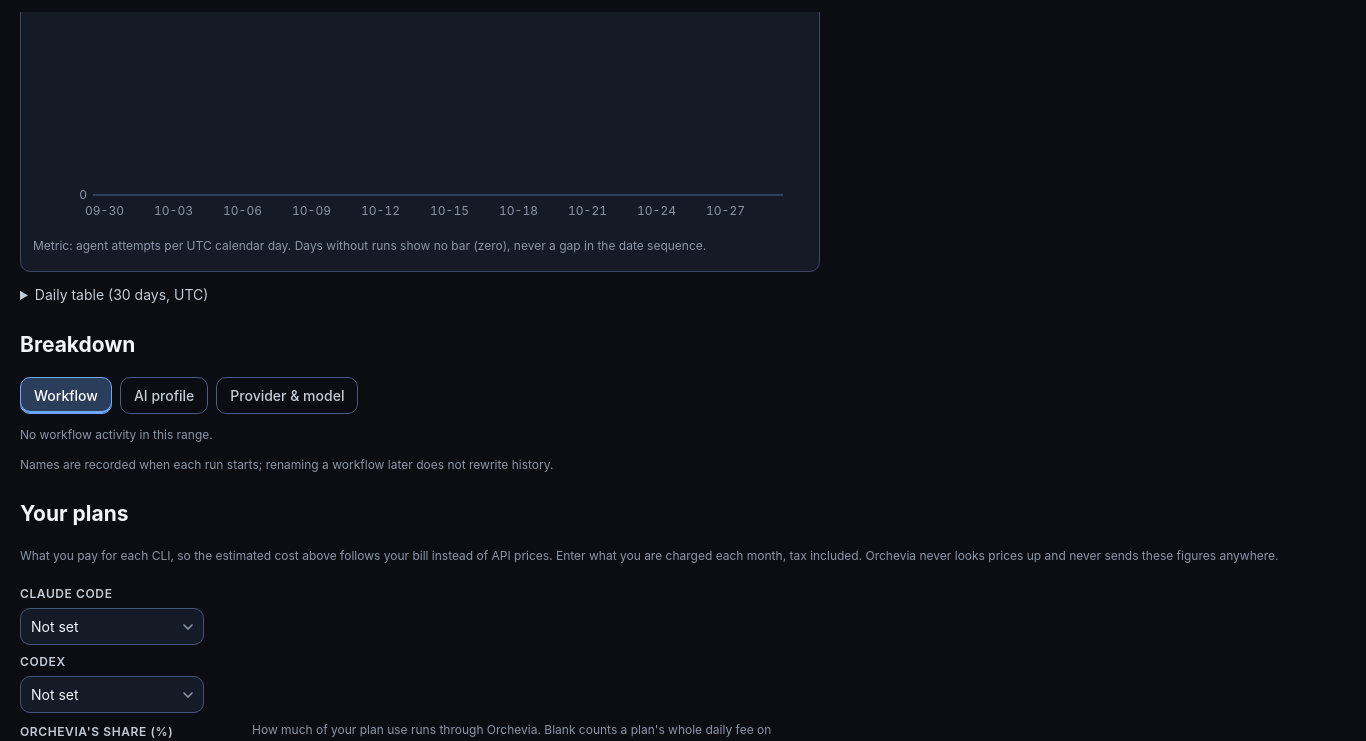
shows profile usage with current names, saved IDs and explicit unknown USD coverage
Click the tab "AI profile": (164, 396) [120,378,208,414]
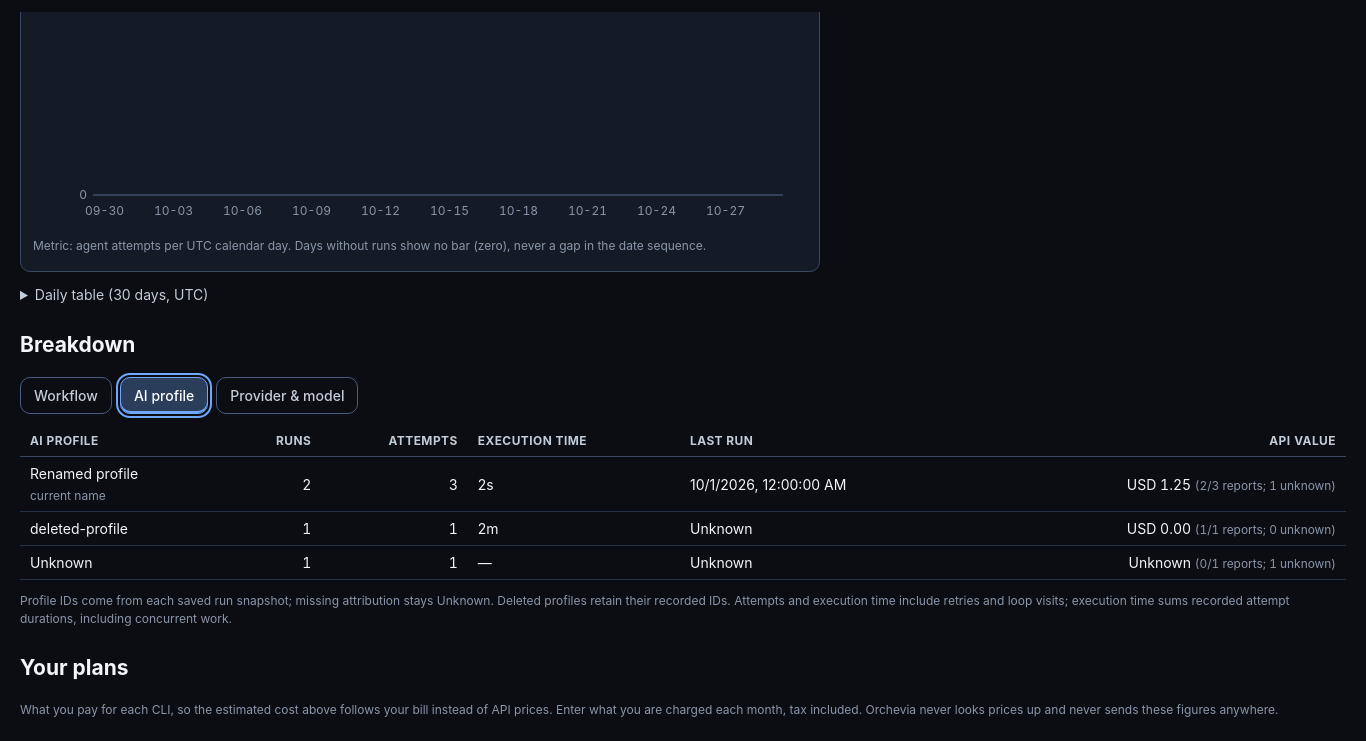
Result: the row "Renamed profile" shows "current name" at [30,488,106,503]
Result: the row "Renamed profile" shows "USD 1.25" at [1127,476,1191,493]
Result: the row "Renamed profile" shows "2/3 reports" at [20,457,1346,512]
